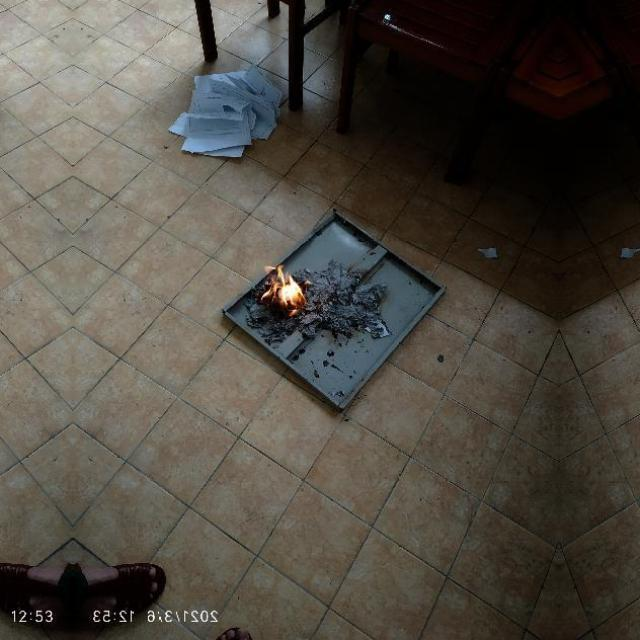smoke: (256, 264, 311, 317)
